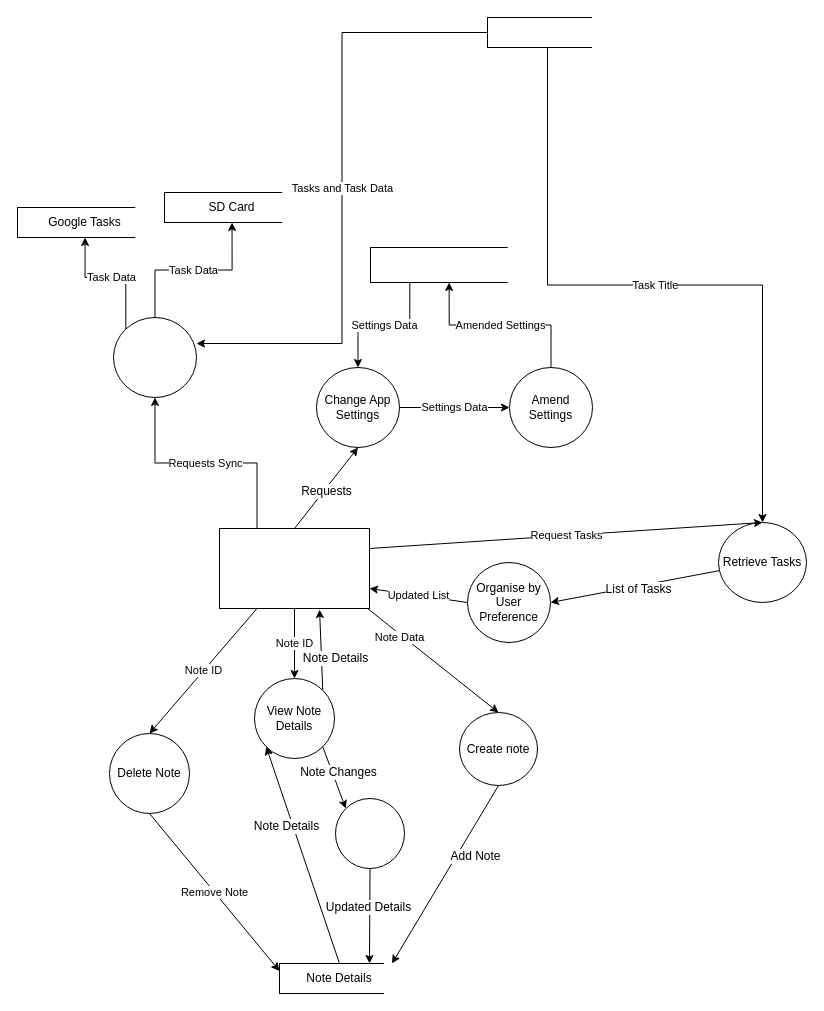
Image size: 824x1011. Some labels were removed from this diagram. Each missing label, with the box of its shape:
Amend Details: (334, 798, 404, 868)
Compile and Send Data: (112, 316, 196, 398)
Tasks: (486, 16, 608, 48)
User: (218, 528, 370, 608)
User Settings and Preferences: (370, 246, 528, 282)
